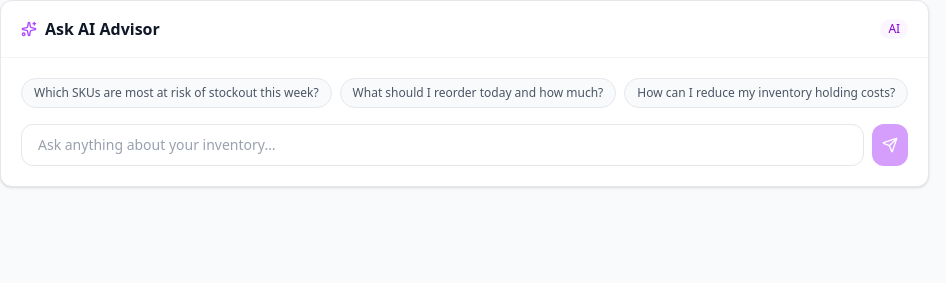
Test: AskAI › shows error message on API failure
In the field with placeholder "Ask anything about your inventory…": coordinates (443, 145) [21, 124, 864, 166], type "Will this fail?"
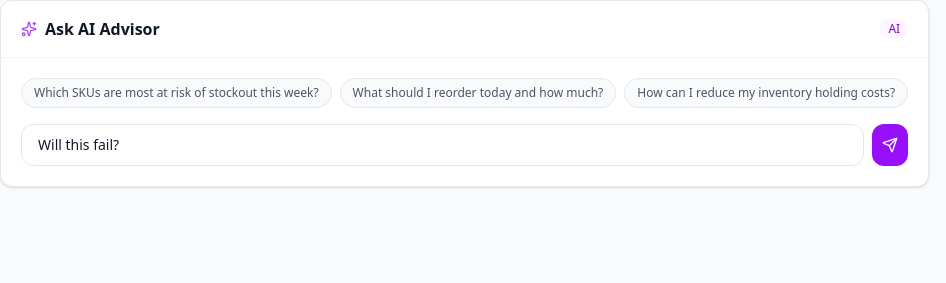
Press Enter in the field with placeholder "Ask anything about your inventory…", box [21, 124, 864, 166]
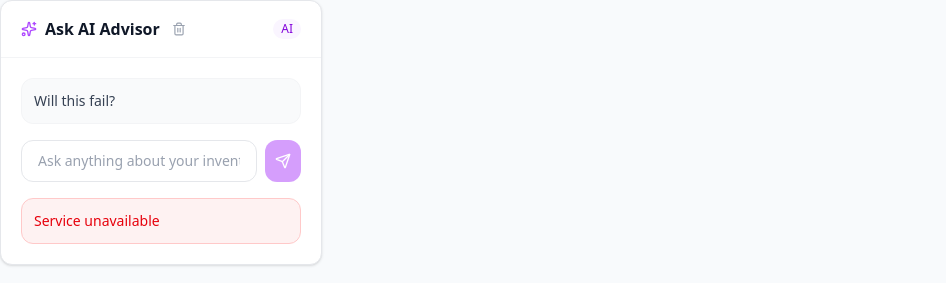
Check: the text "Service unavailable" is shown, box [21, 198, 301, 244]
